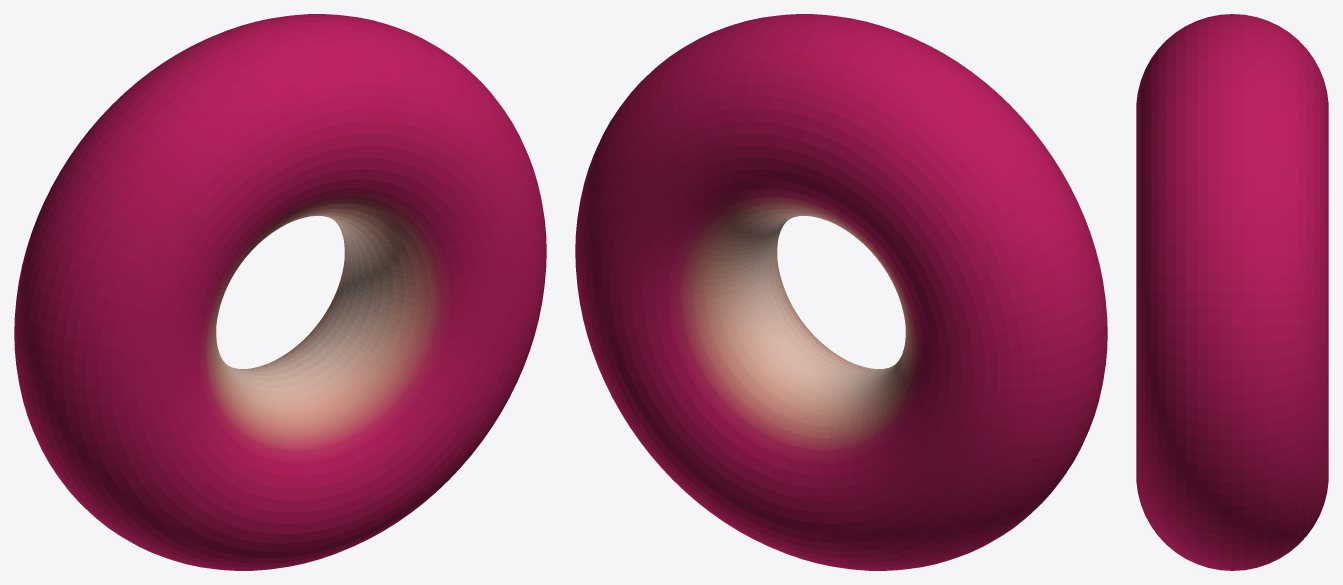
The picture shows the model from 3 angles, left to right: view 1: azimuth 30°, elevation 25°; view 2: azimuth 150°, elevation 25°; view 3: azimuth 270°, elevation 25°; orthographic projection. The views are drawn at different scales.
Visible parts, largest first — view 1: world; view 2: world; view 3: world.
Boxes of the visible parts, box(x1,y1,x2,y2) form: world: box(14, 14, 546, 570); world: box(575, 14, 1107, 570); world: box(1136, 14, 1328, 570).
Size of the model in its own units: 28.89 by 28.89 by 9.98.
